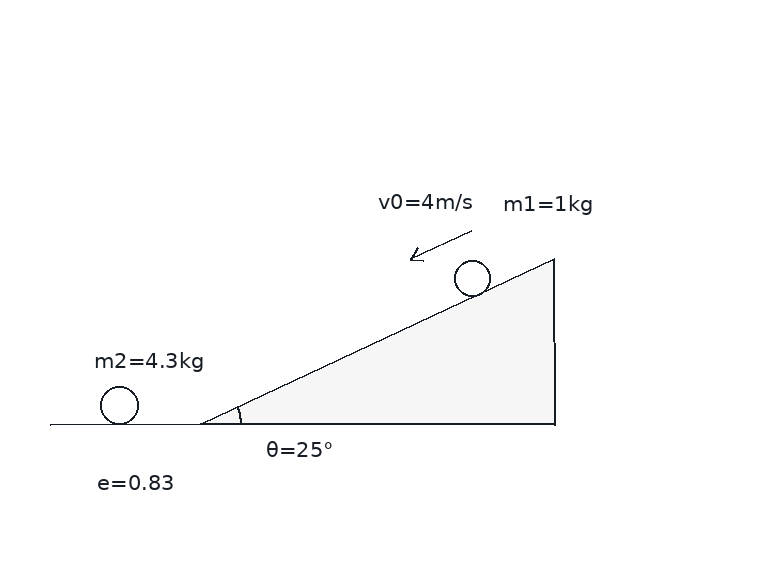ball: (98, 384, 140, 426), (452, 258, 492, 298)
ramp: (199, 257, 556, 426)
